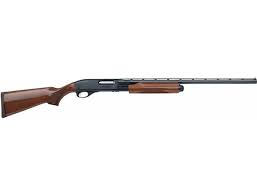gun: (1, 74, 257, 119)
